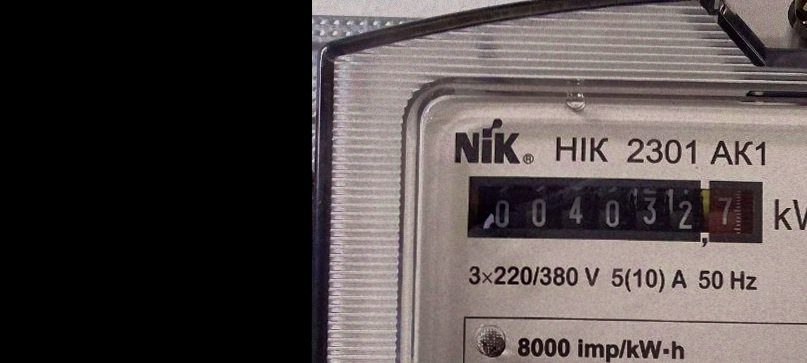0: (528, 196, 548, 229), (492, 195, 511, 228), (602, 196, 621, 229)
2: (676, 197, 694, 231)
3: (640, 194, 658, 226)
4: (565, 193, 585, 229)
7: (717, 194, 734, 227)
screen: (457, 167, 771, 255)
